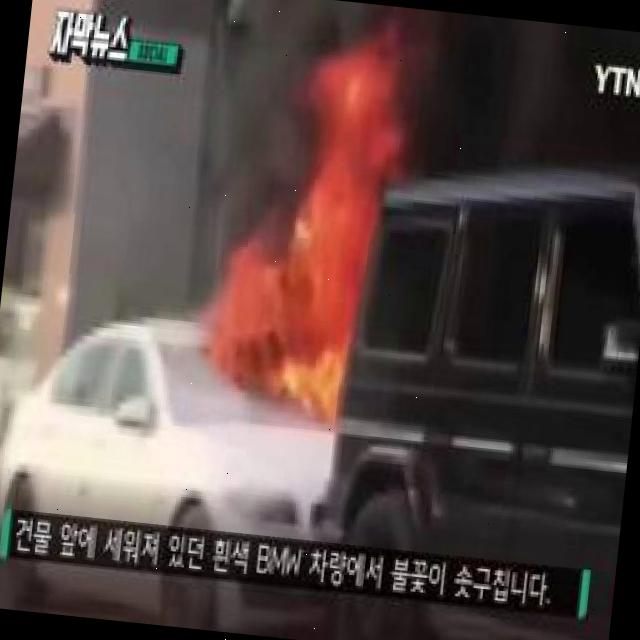fire: (223, 48, 418, 412)
